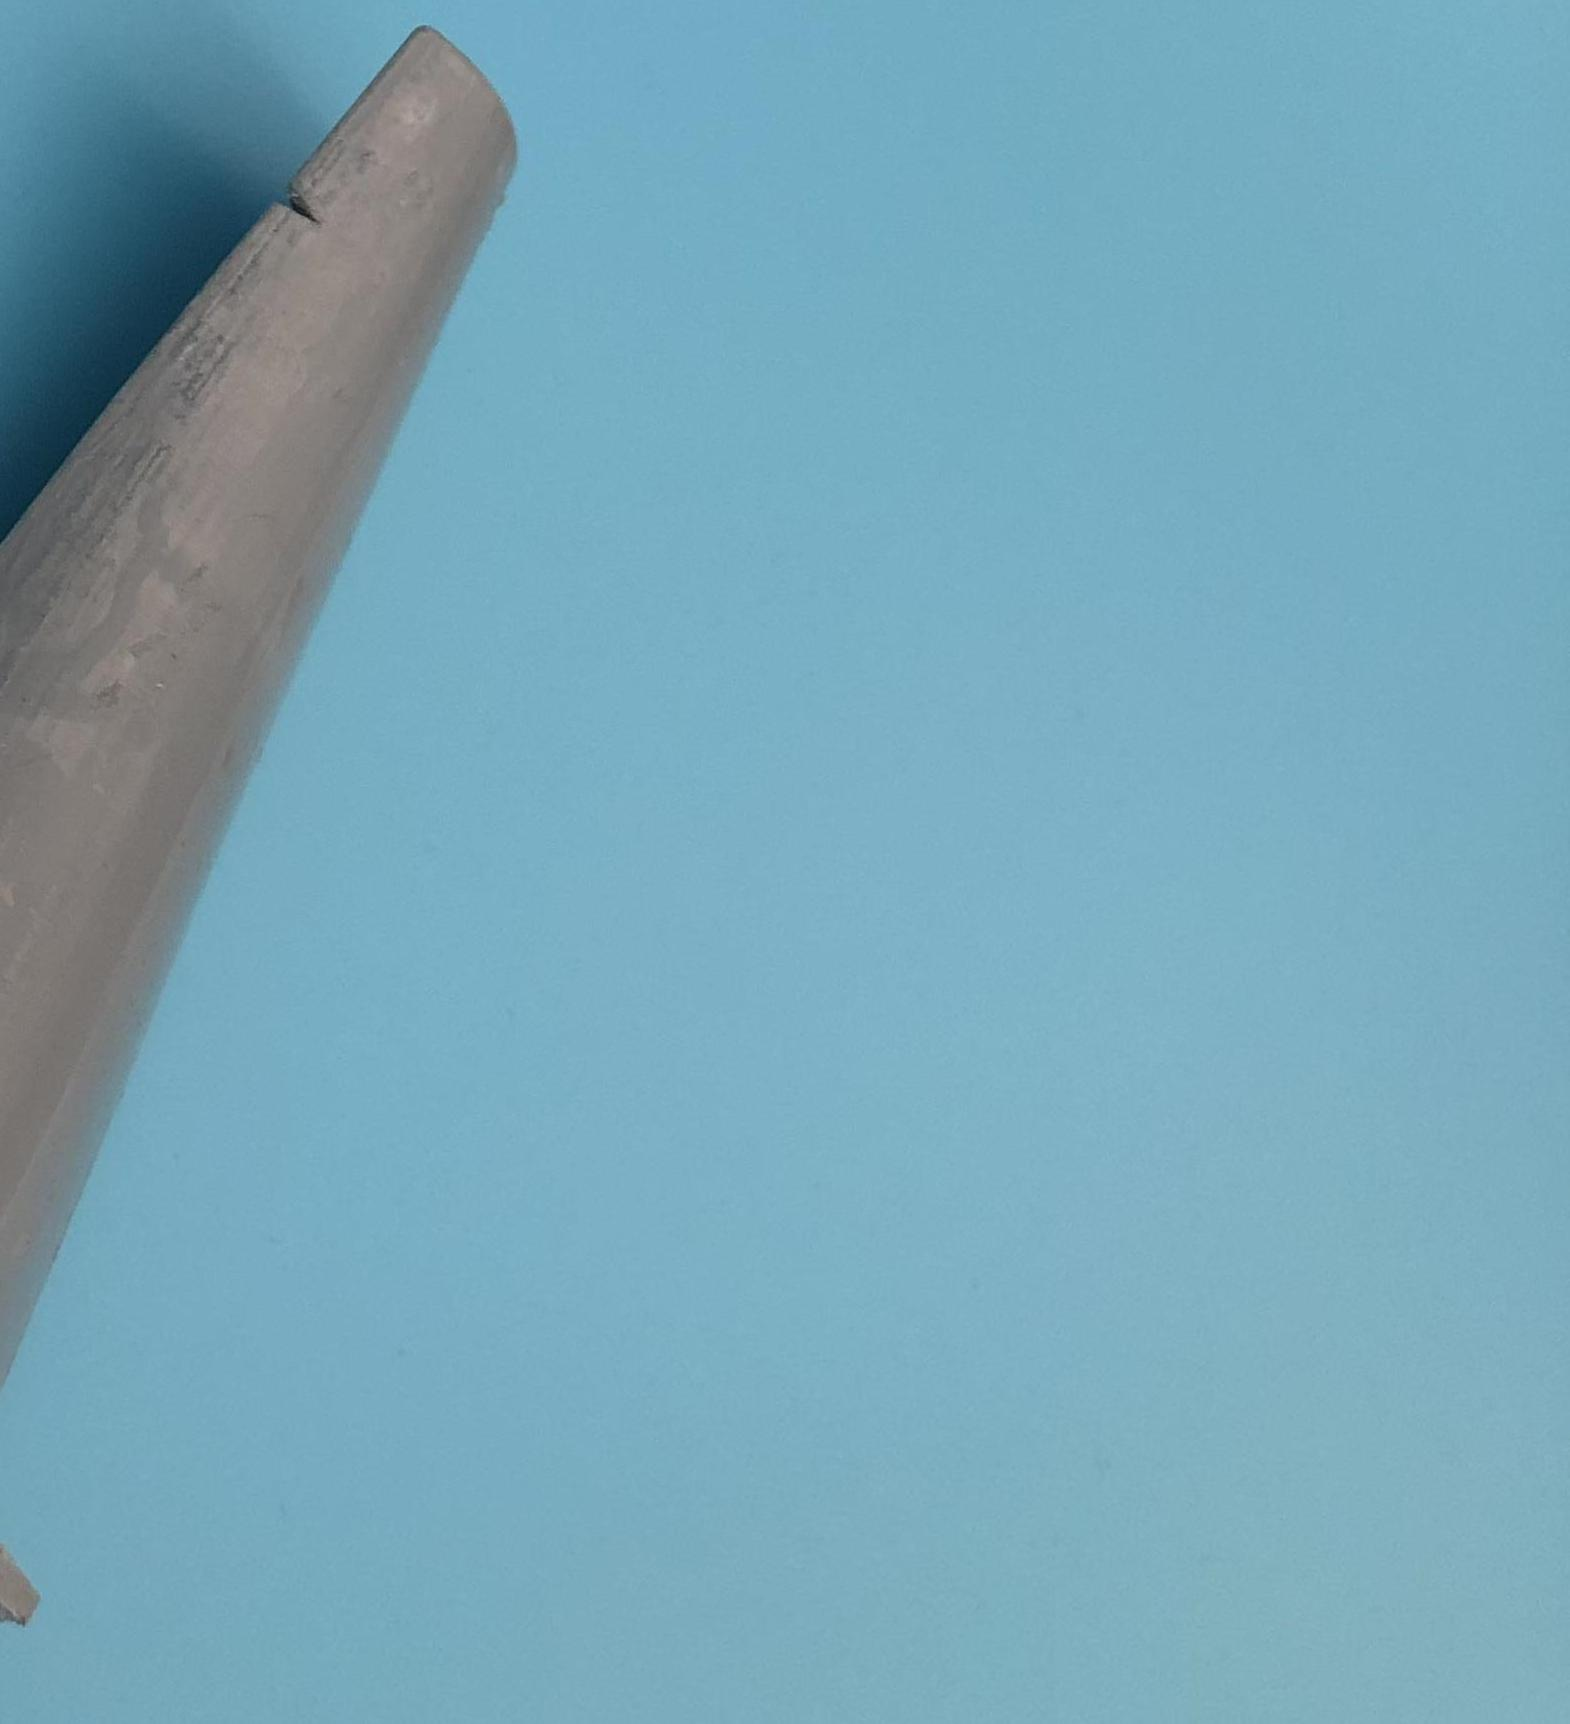groove: (264, 174, 328, 233)
